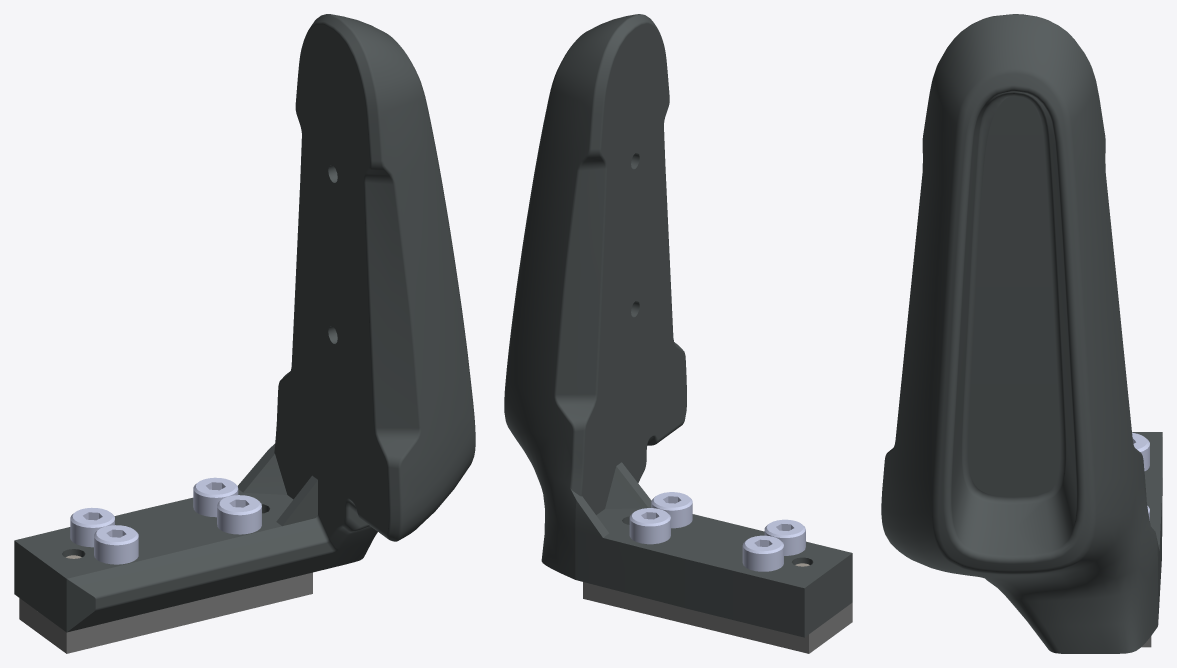
File: finger_1_link.dae
The picture shows the model from 3 angles, left to right: view 1: azimuth 30°, elevation 25°; view 2: azimuth 150°, elevation 25°; view 3: azimuth 270°, elevation 25°; orthographic projection. The views are drawn at different scales.
Visible parts, largest first — view 1: DownFinger (×3); view 2: DownFinger (×3); view 3: DownFinger (×2).
Boxes of the visible parts, left/top/right/bottom form: DownFinger (×3): left=14, top=14, right=475, bottom=653; DownFinger (×3): left=504, top=14, right=852, bottom=653; DownFinger (×2): left=881, top=14, right=1162, bottom=653.
Bounding box in the file's own units: 0.0354 × 0.0215 × 0.0542.
